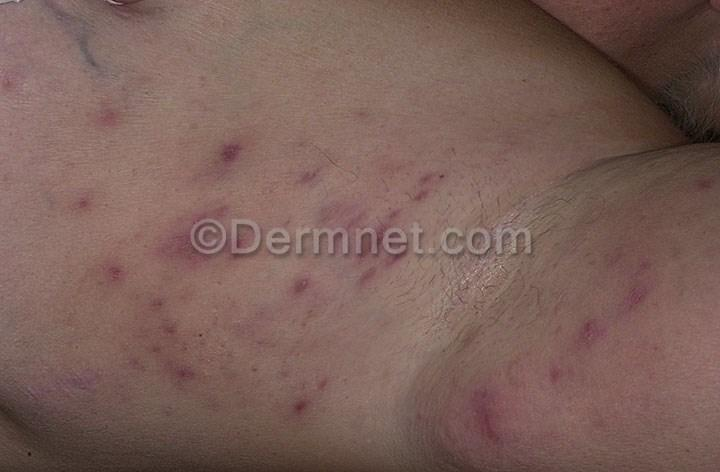Acne: (356, 144, 481, 264), (522, 314, 638, 376), (256, 251, 360, 317), (454, 409, 556, 472), (189, 124, 285, 188), (144, 197, 248, 251), (250, 375, 324, 444), (52, 242, 140, 298)
